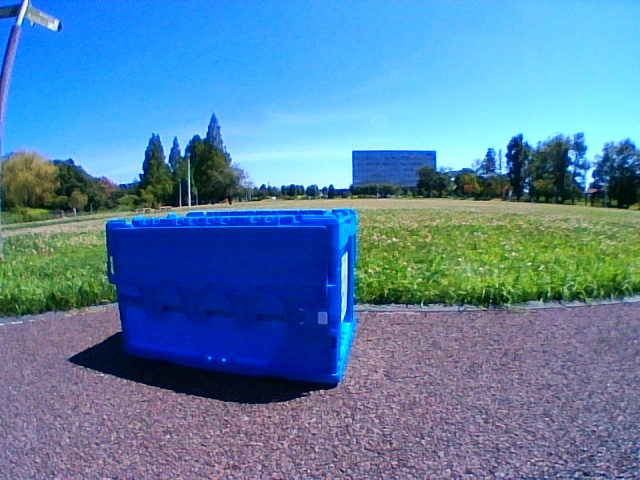blue_box: (106, 210, 356, 386)
tag: (340, 256, 347, 318)
